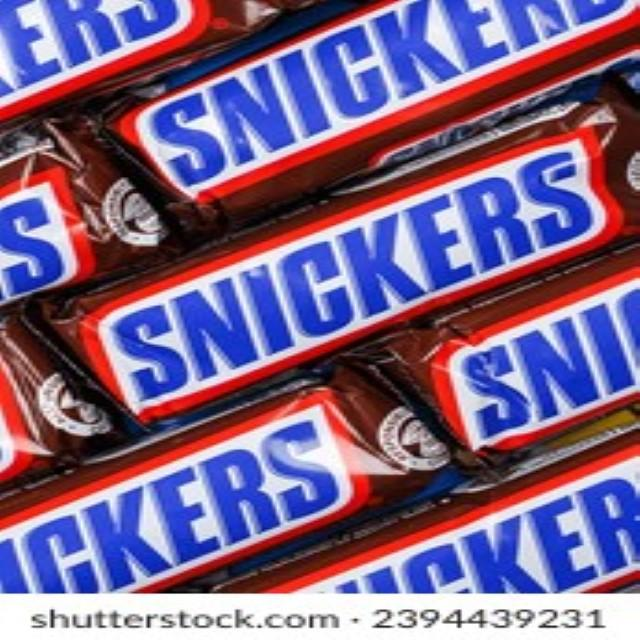snickers_chocolate: (47, 128, 623, 435), (103, 2, 613, 218), (0, 375, 422, 630), (242, 433, 635, 593), (393, 243, 640, 478)
